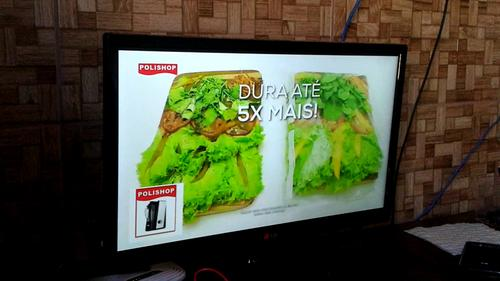Polishop #1: (128, 182, 184, 245)
